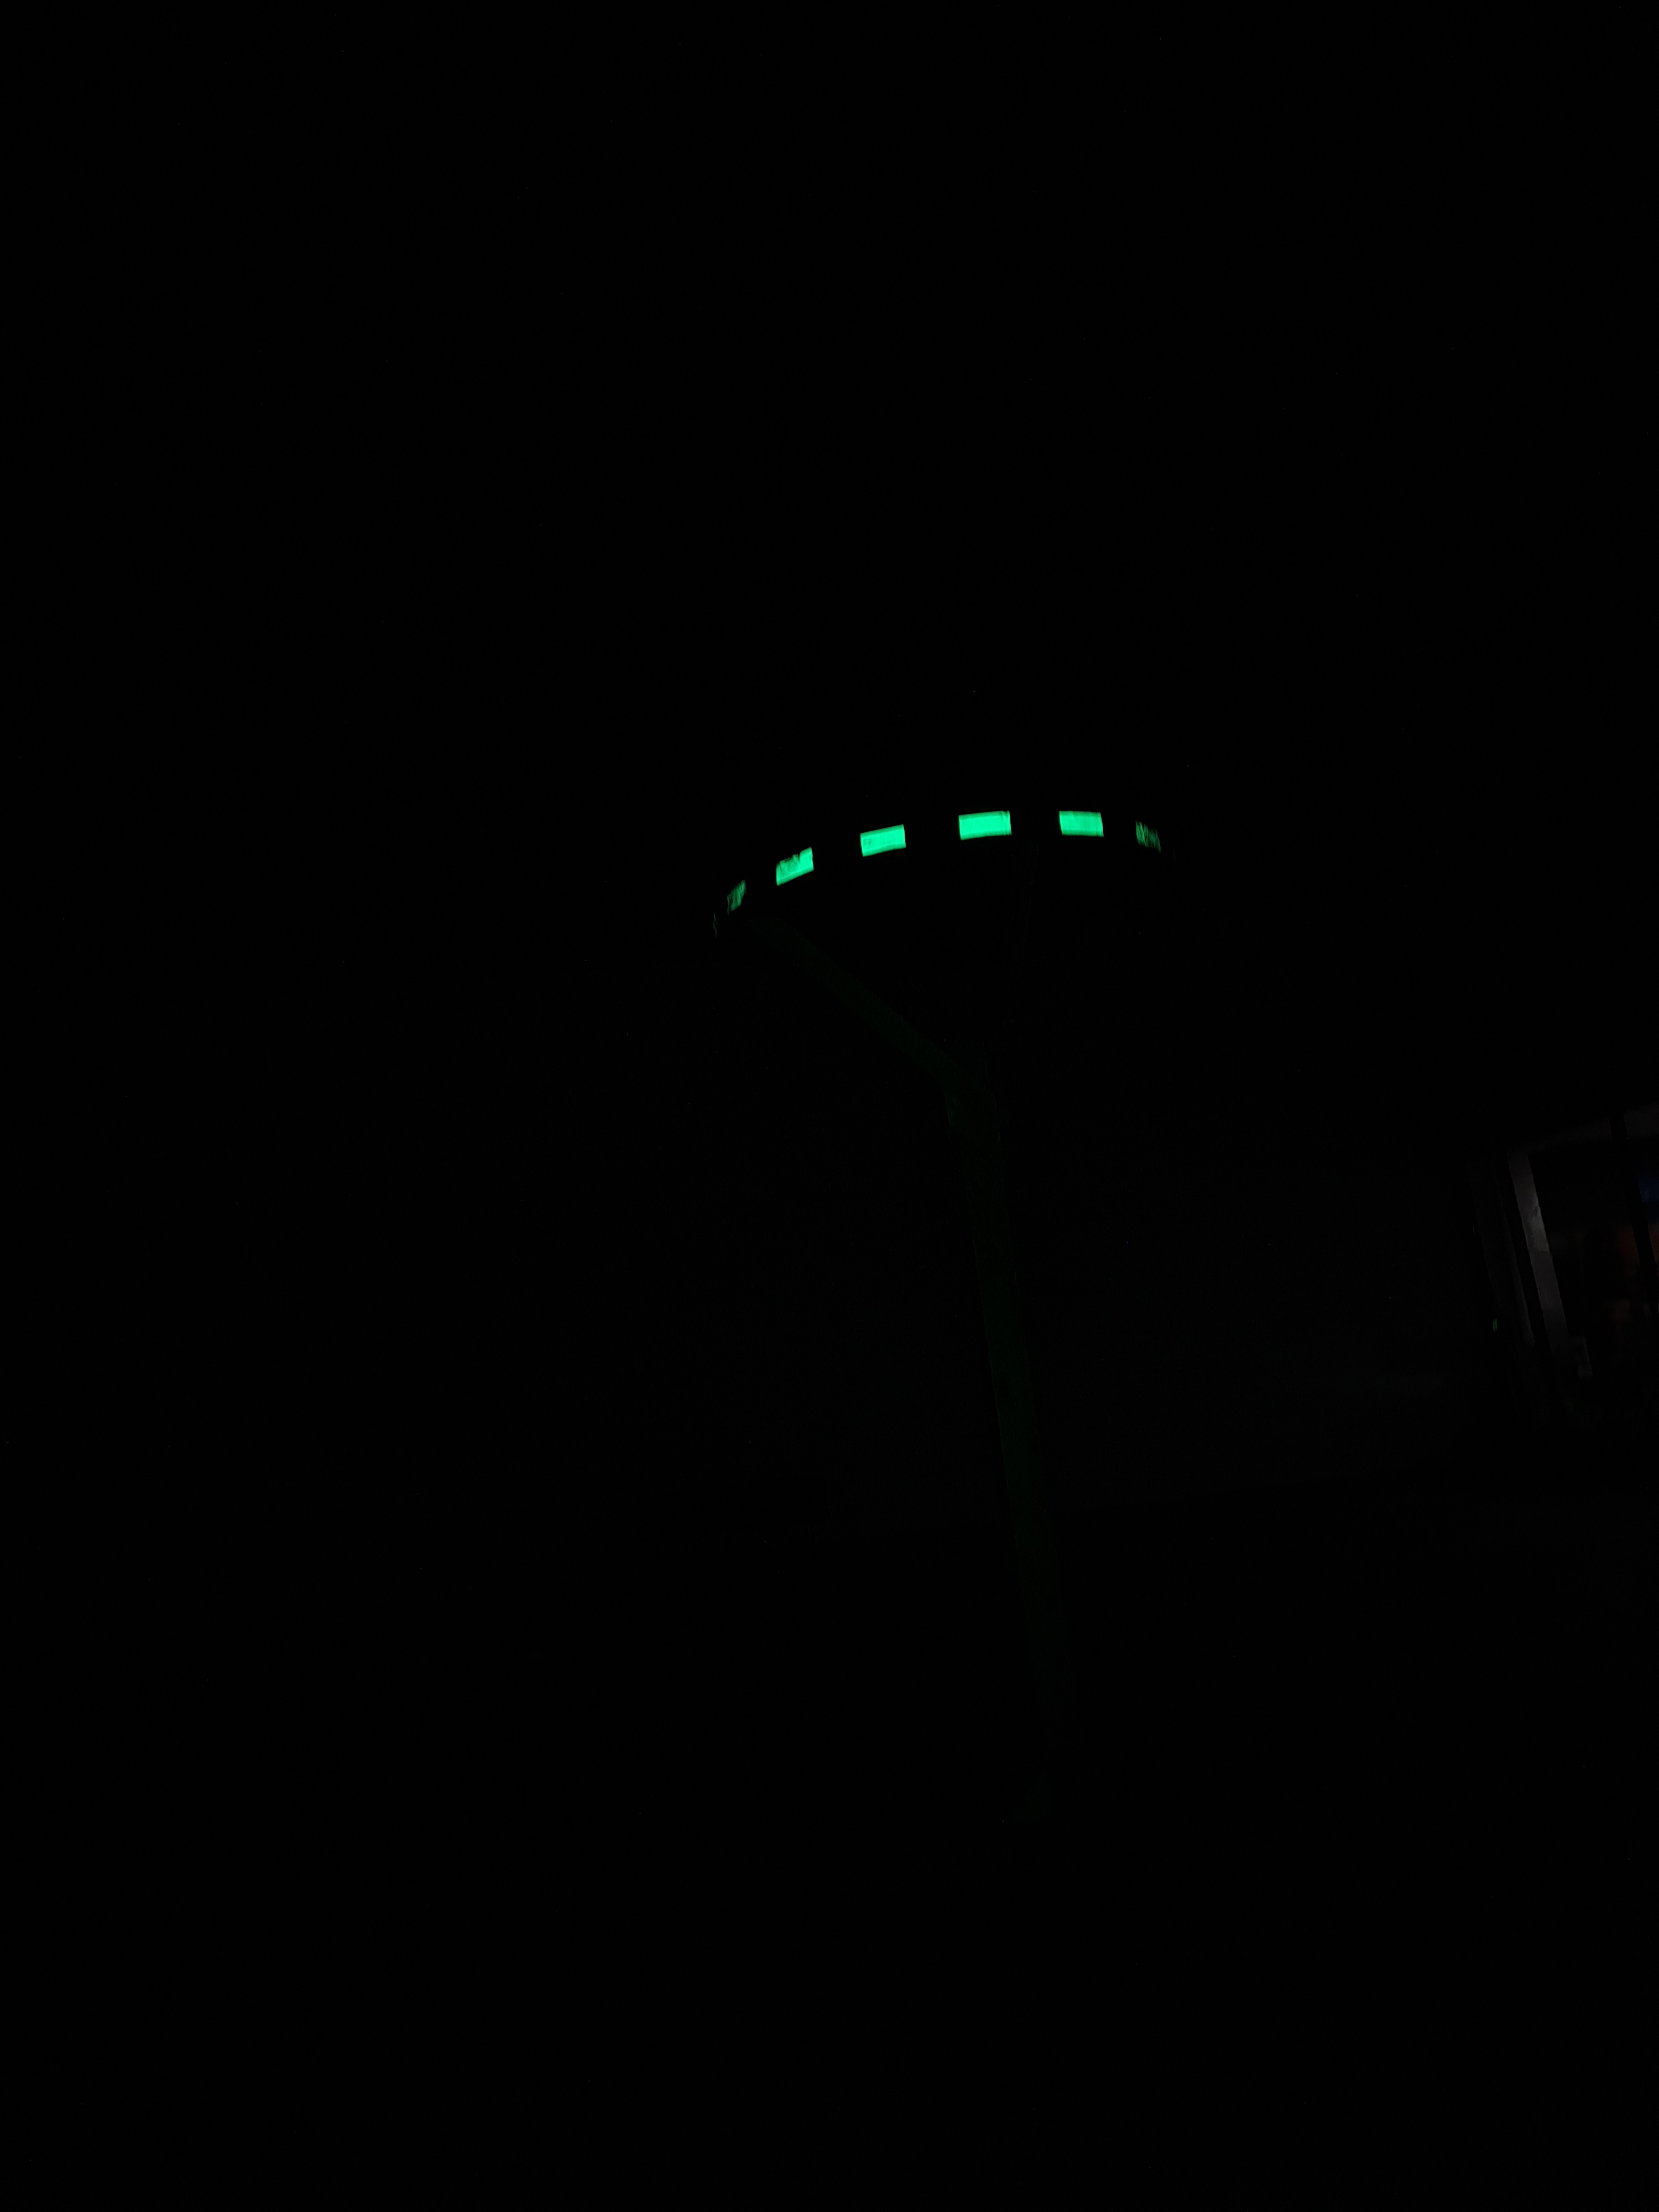hoop: (709, 773, 1187, 928)
